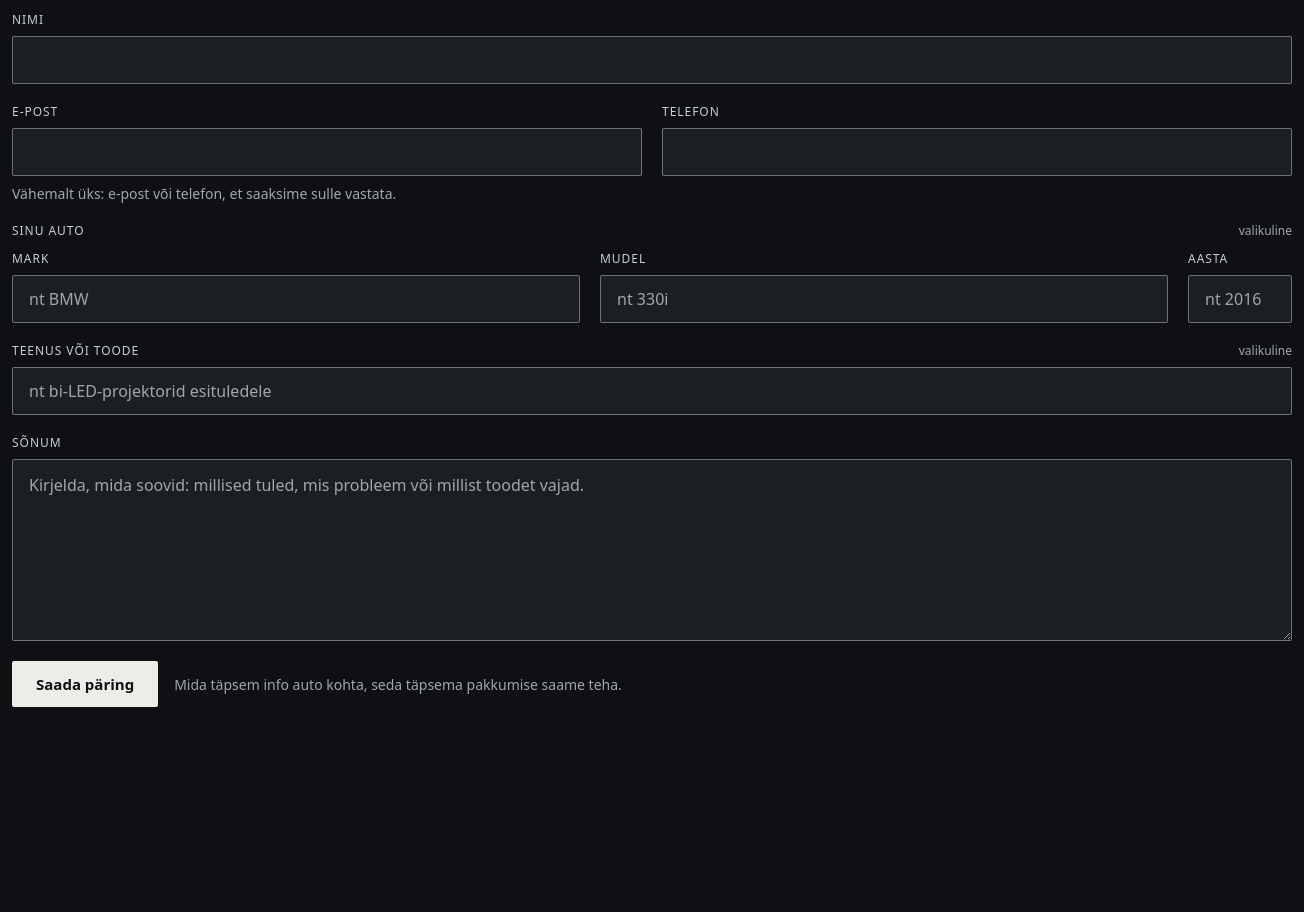
Test case: InquiryForm › results from the action › shows the success state only when the action reports success
In the field labelled "Nimi": (652, 60) [12,36,1292,84], type "Mari Maasikas"
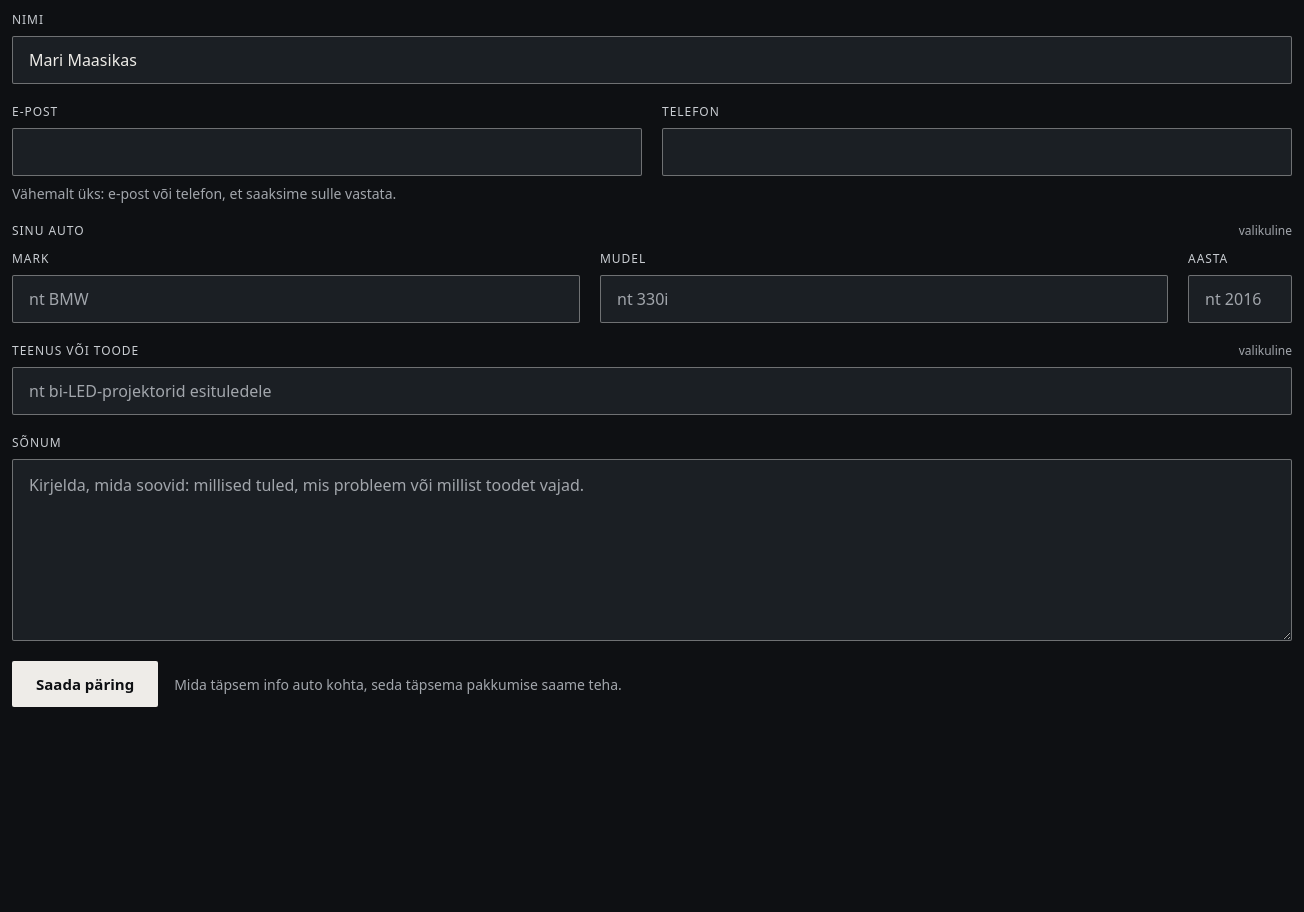
In the field labelled "E-post": (327, 152) [12,128,642,176], type "mari@example.com"
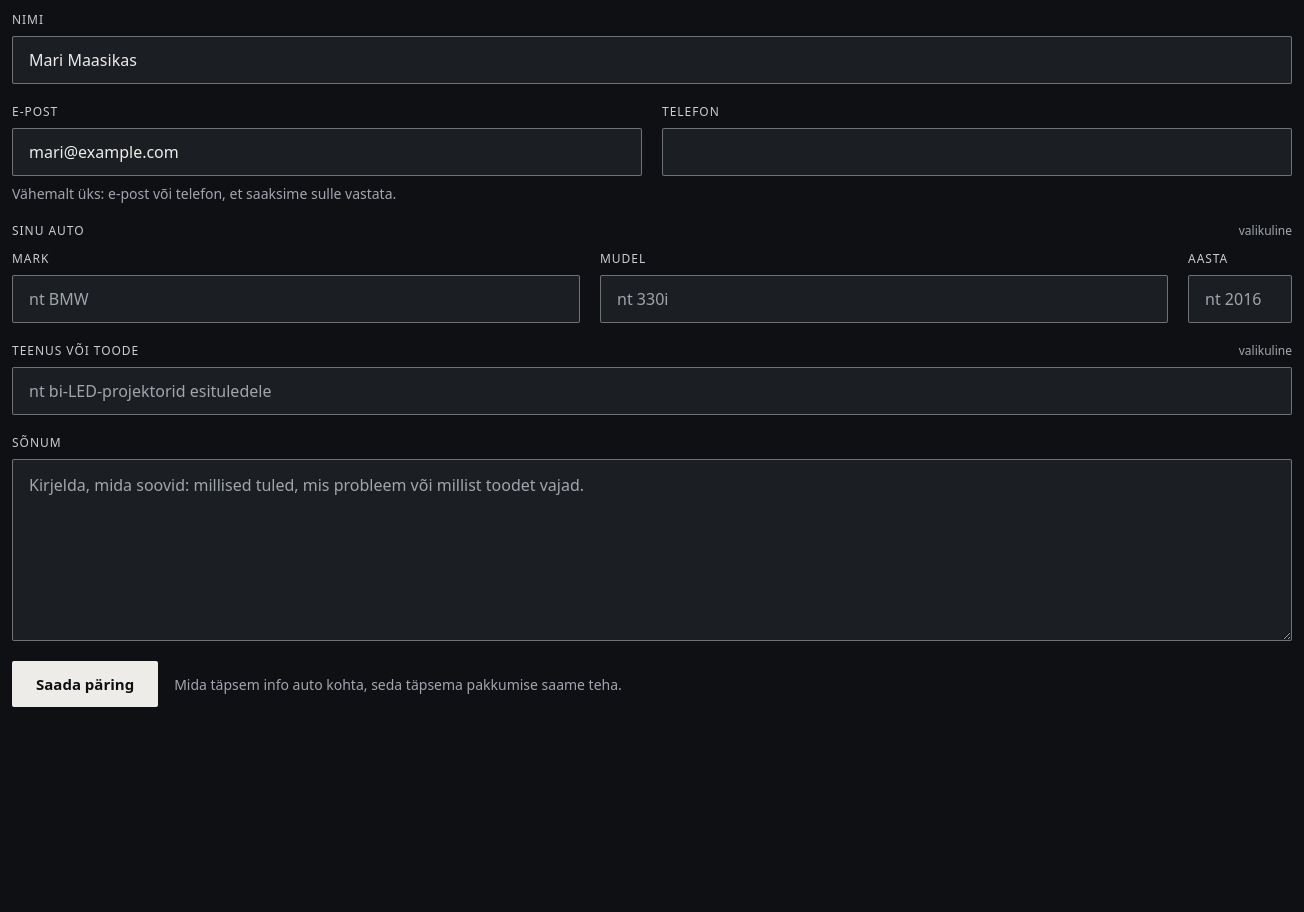
Replace the text in the text box labelled "Sõnum" with "Tahaksin hinnapakkumist.": (652, 550) [12,459,1292,641]
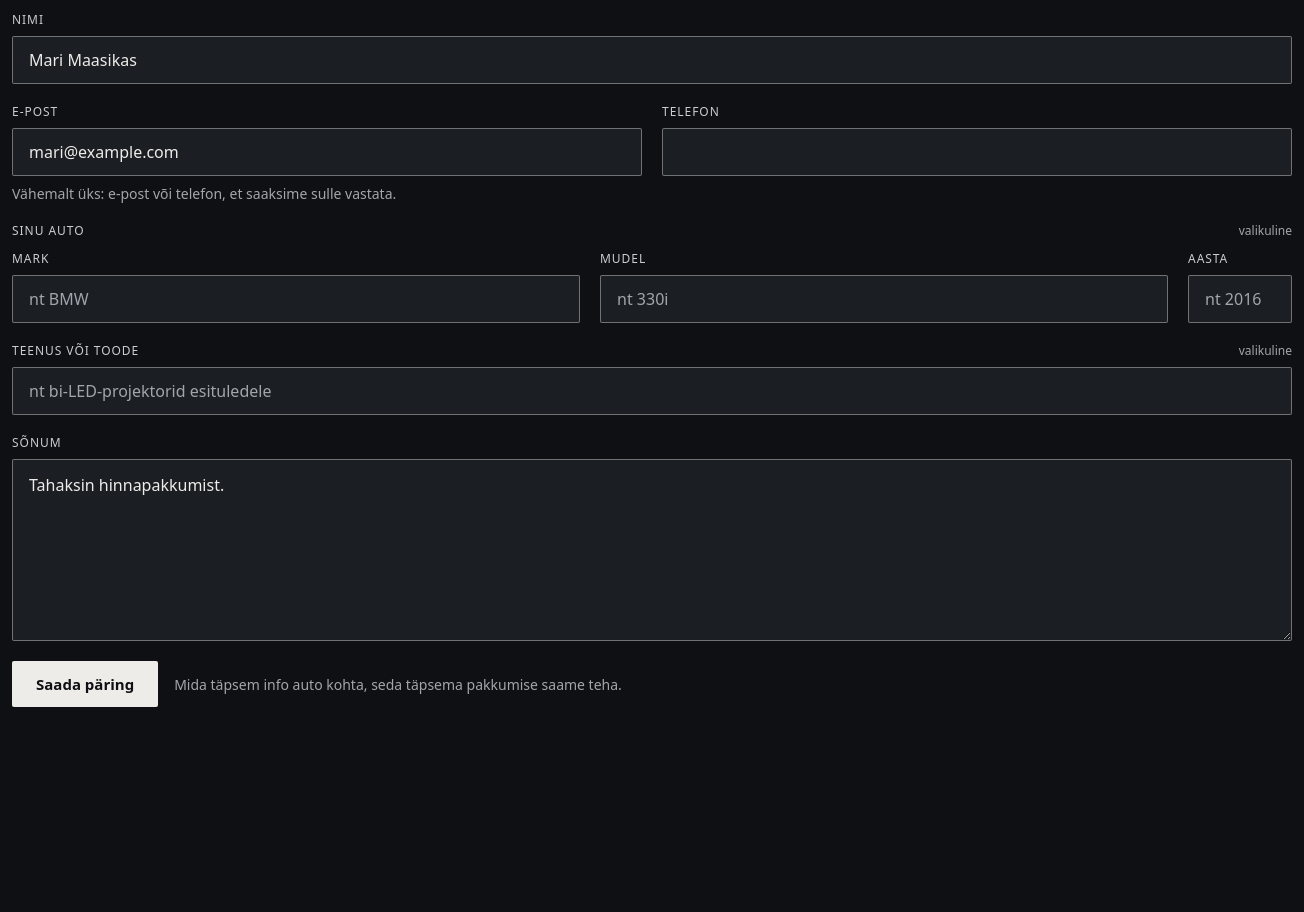
Submit the form
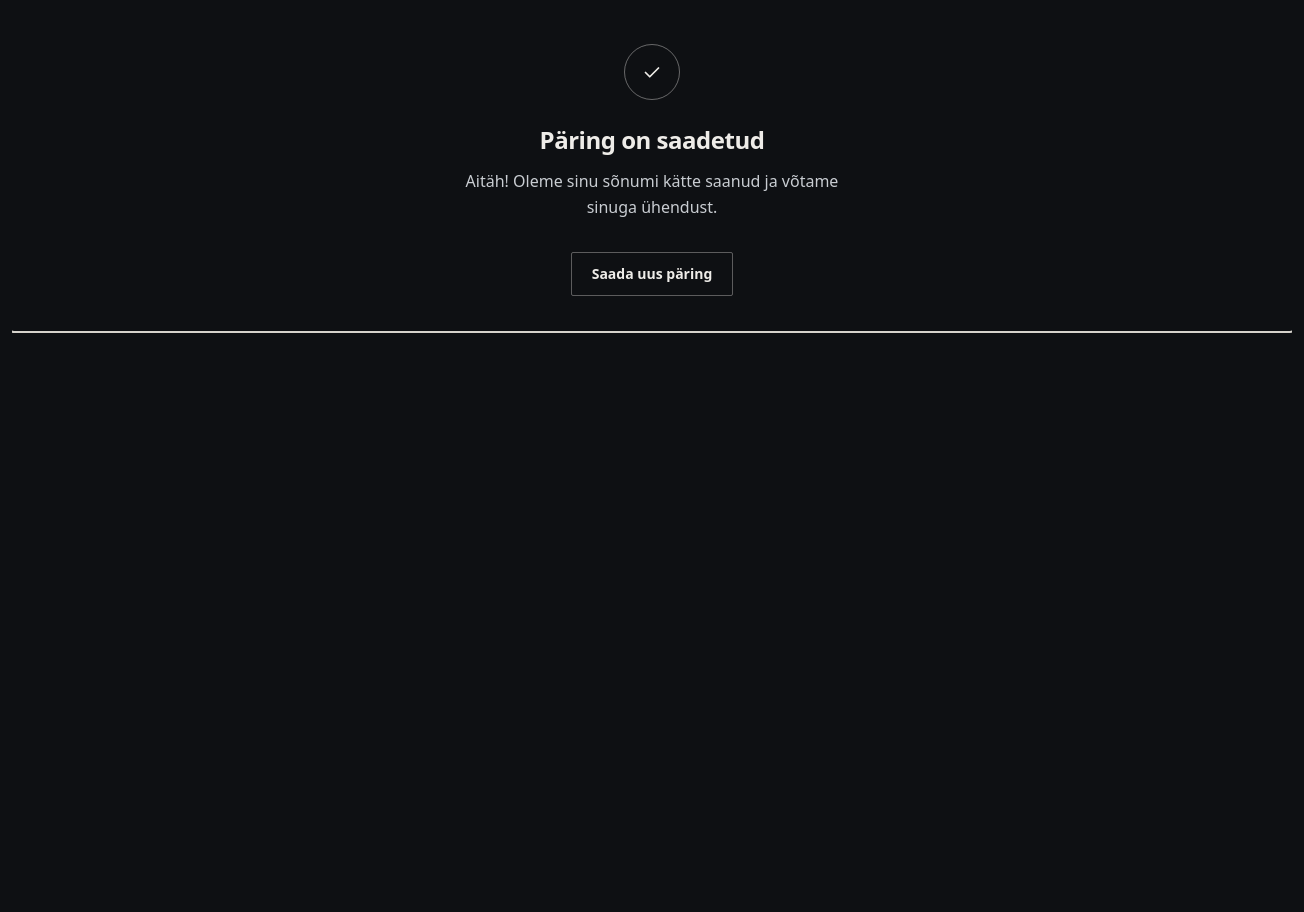
Now the heading "Päring on saadetud" is shown, box [540,124,764,156]
Now the form is gone
